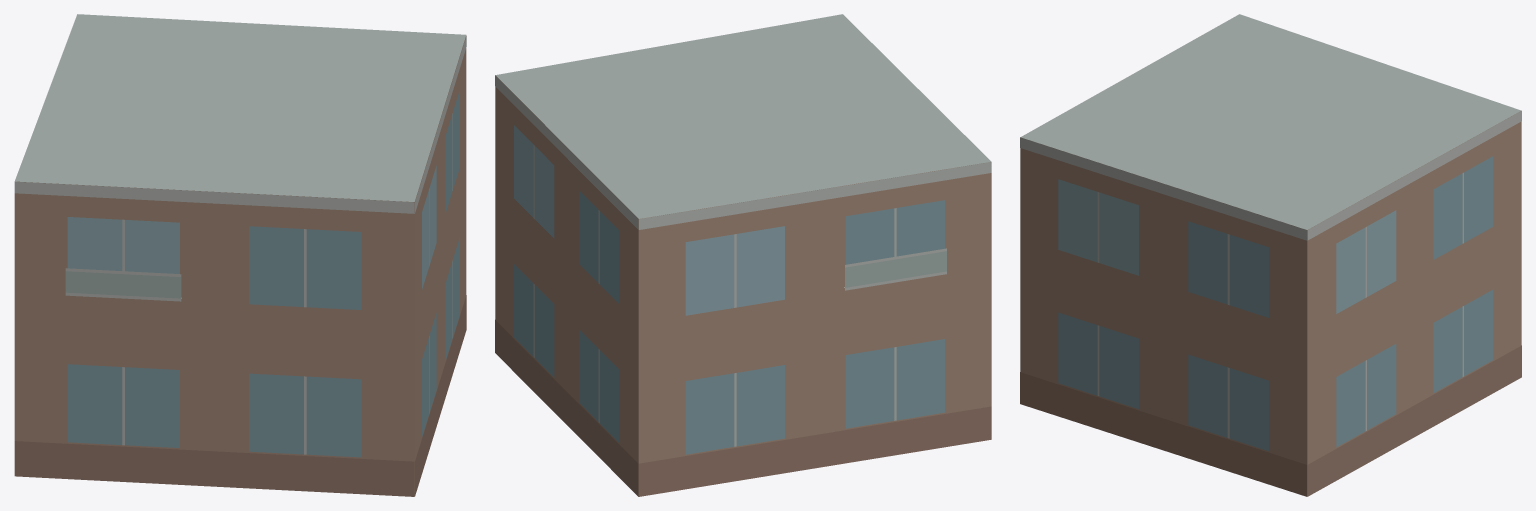
Rendered from survey-upis-32500246.glb.
3 renders of one model, left to right at view 1: azimuth 30°, elevation 25°; view 2: azimuth 150°, elevation 25°; view 3: azimuth 270°, elevation 25°, orthographic. The views are drawn at different scales.
Parts seen in each view (by area): view 1: survey-upis-32500246.tmp; view 2: survey-upis-32500246.tmp; view 3: survey-upis-32500246.tmp.
Part boxes in pixels (left/top/right/bottom): survey-upis-32500246.tmp: left=14, top=14, right=466, bottom=496; survey-upis-32500246.tmp: left=495, top=14, right=991, bottom=496; survey-upis-32500246.tmp: left=1020, top=14, right=1521, bottom=496.
Size of the model in its own units: 10.61 by 6.1 by 10.4.
